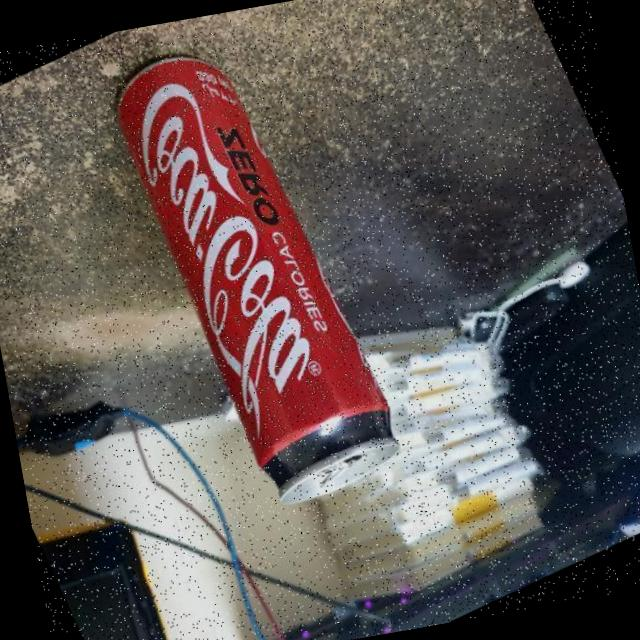can: (103, 26, 409, 528)
